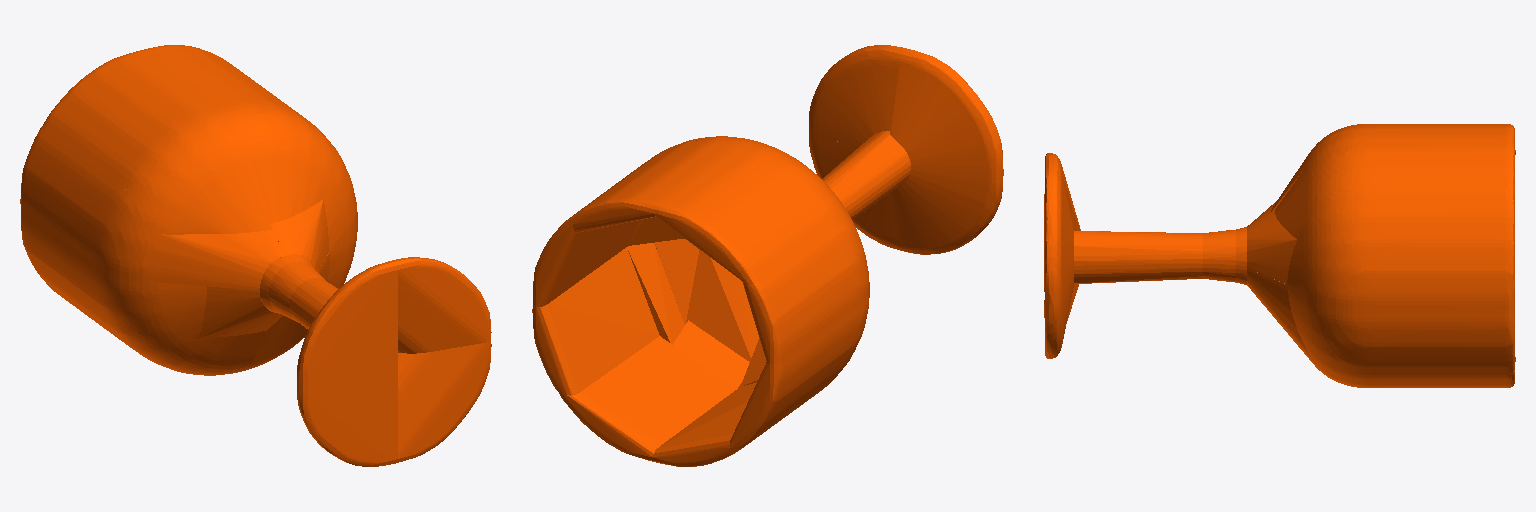
URDF robot description (Whitewineglass):
<?xml version="1.0" ?>
<robot name="Whitewineglass">
   <material name="obj_color">
      <color rgba="1.0 0.423529411765 0.0392156862745 1.0"/>
   </material>
   <link name="top">
      <inertial>
         <origin rpy="0.0002358279607769591 0.000523391999676974 0.0005241881484873323" xyz="-0.0002929529456270819 0.01475474935810775 0.0001767412497373773"/>
         <mass value="0.2645213452724037"/>
         <inertia ixx="0.0005240513080008671" ixy="-1.40894680100155e-06" ixz="-2.971686644841095e-07" iyy="0.000235836102779374" iyz="-5.993118813344371e-07" izz="0.0005235206981610243"/>
      </inertial>
      <visual>
         <origin rpy="0 0 0" xyz="0 0 0"/>
         <geometry>
            <mesh filename="top_watertight_tiny.obj" scale="1 1 1"/>
         </geometry>
         <material name="obj_color"/>
      </visual>
      <collision>
         <origin rpy="0 0 0" xyz="0 0 0"/>
         <geometry>
            <mesh filename="top_watertight_tiny.obj" scale="1 1 1"/>
         </geometry>
      </collision>
   </link>
</robot>

--- Facts derived from the render (not from the file) ---
3 views of the same robot in one strip: view 1: azimuth 30°, elevation 25°; view 2: azimuth 150°, elevation 25°; view 3: azimuth 270°, elevation 25° (orthographic).
Robot: Whitewineglass — 1 links, 0 joints (none); root link top; default pose: all joints at 0.
Links seen in each view (by area): view 1: top; view 2: top; view 3: top.
Boxes of the visible links, x1,y1,x2,y2 form: top: [20, 45, 491, 466]; top: [532, 45, 1003, 466]; top: [1044, 124, 1515, 387].
Size in the robot's own frame: 0.0769 by 0.1376 by 0.0769 metres.
Meshes: 1 distinct files referenced, 1 mesh visuals loaded (1 OBJ).